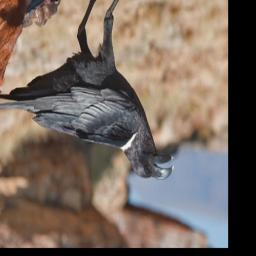Crow: (0, 0, 174, 185)
